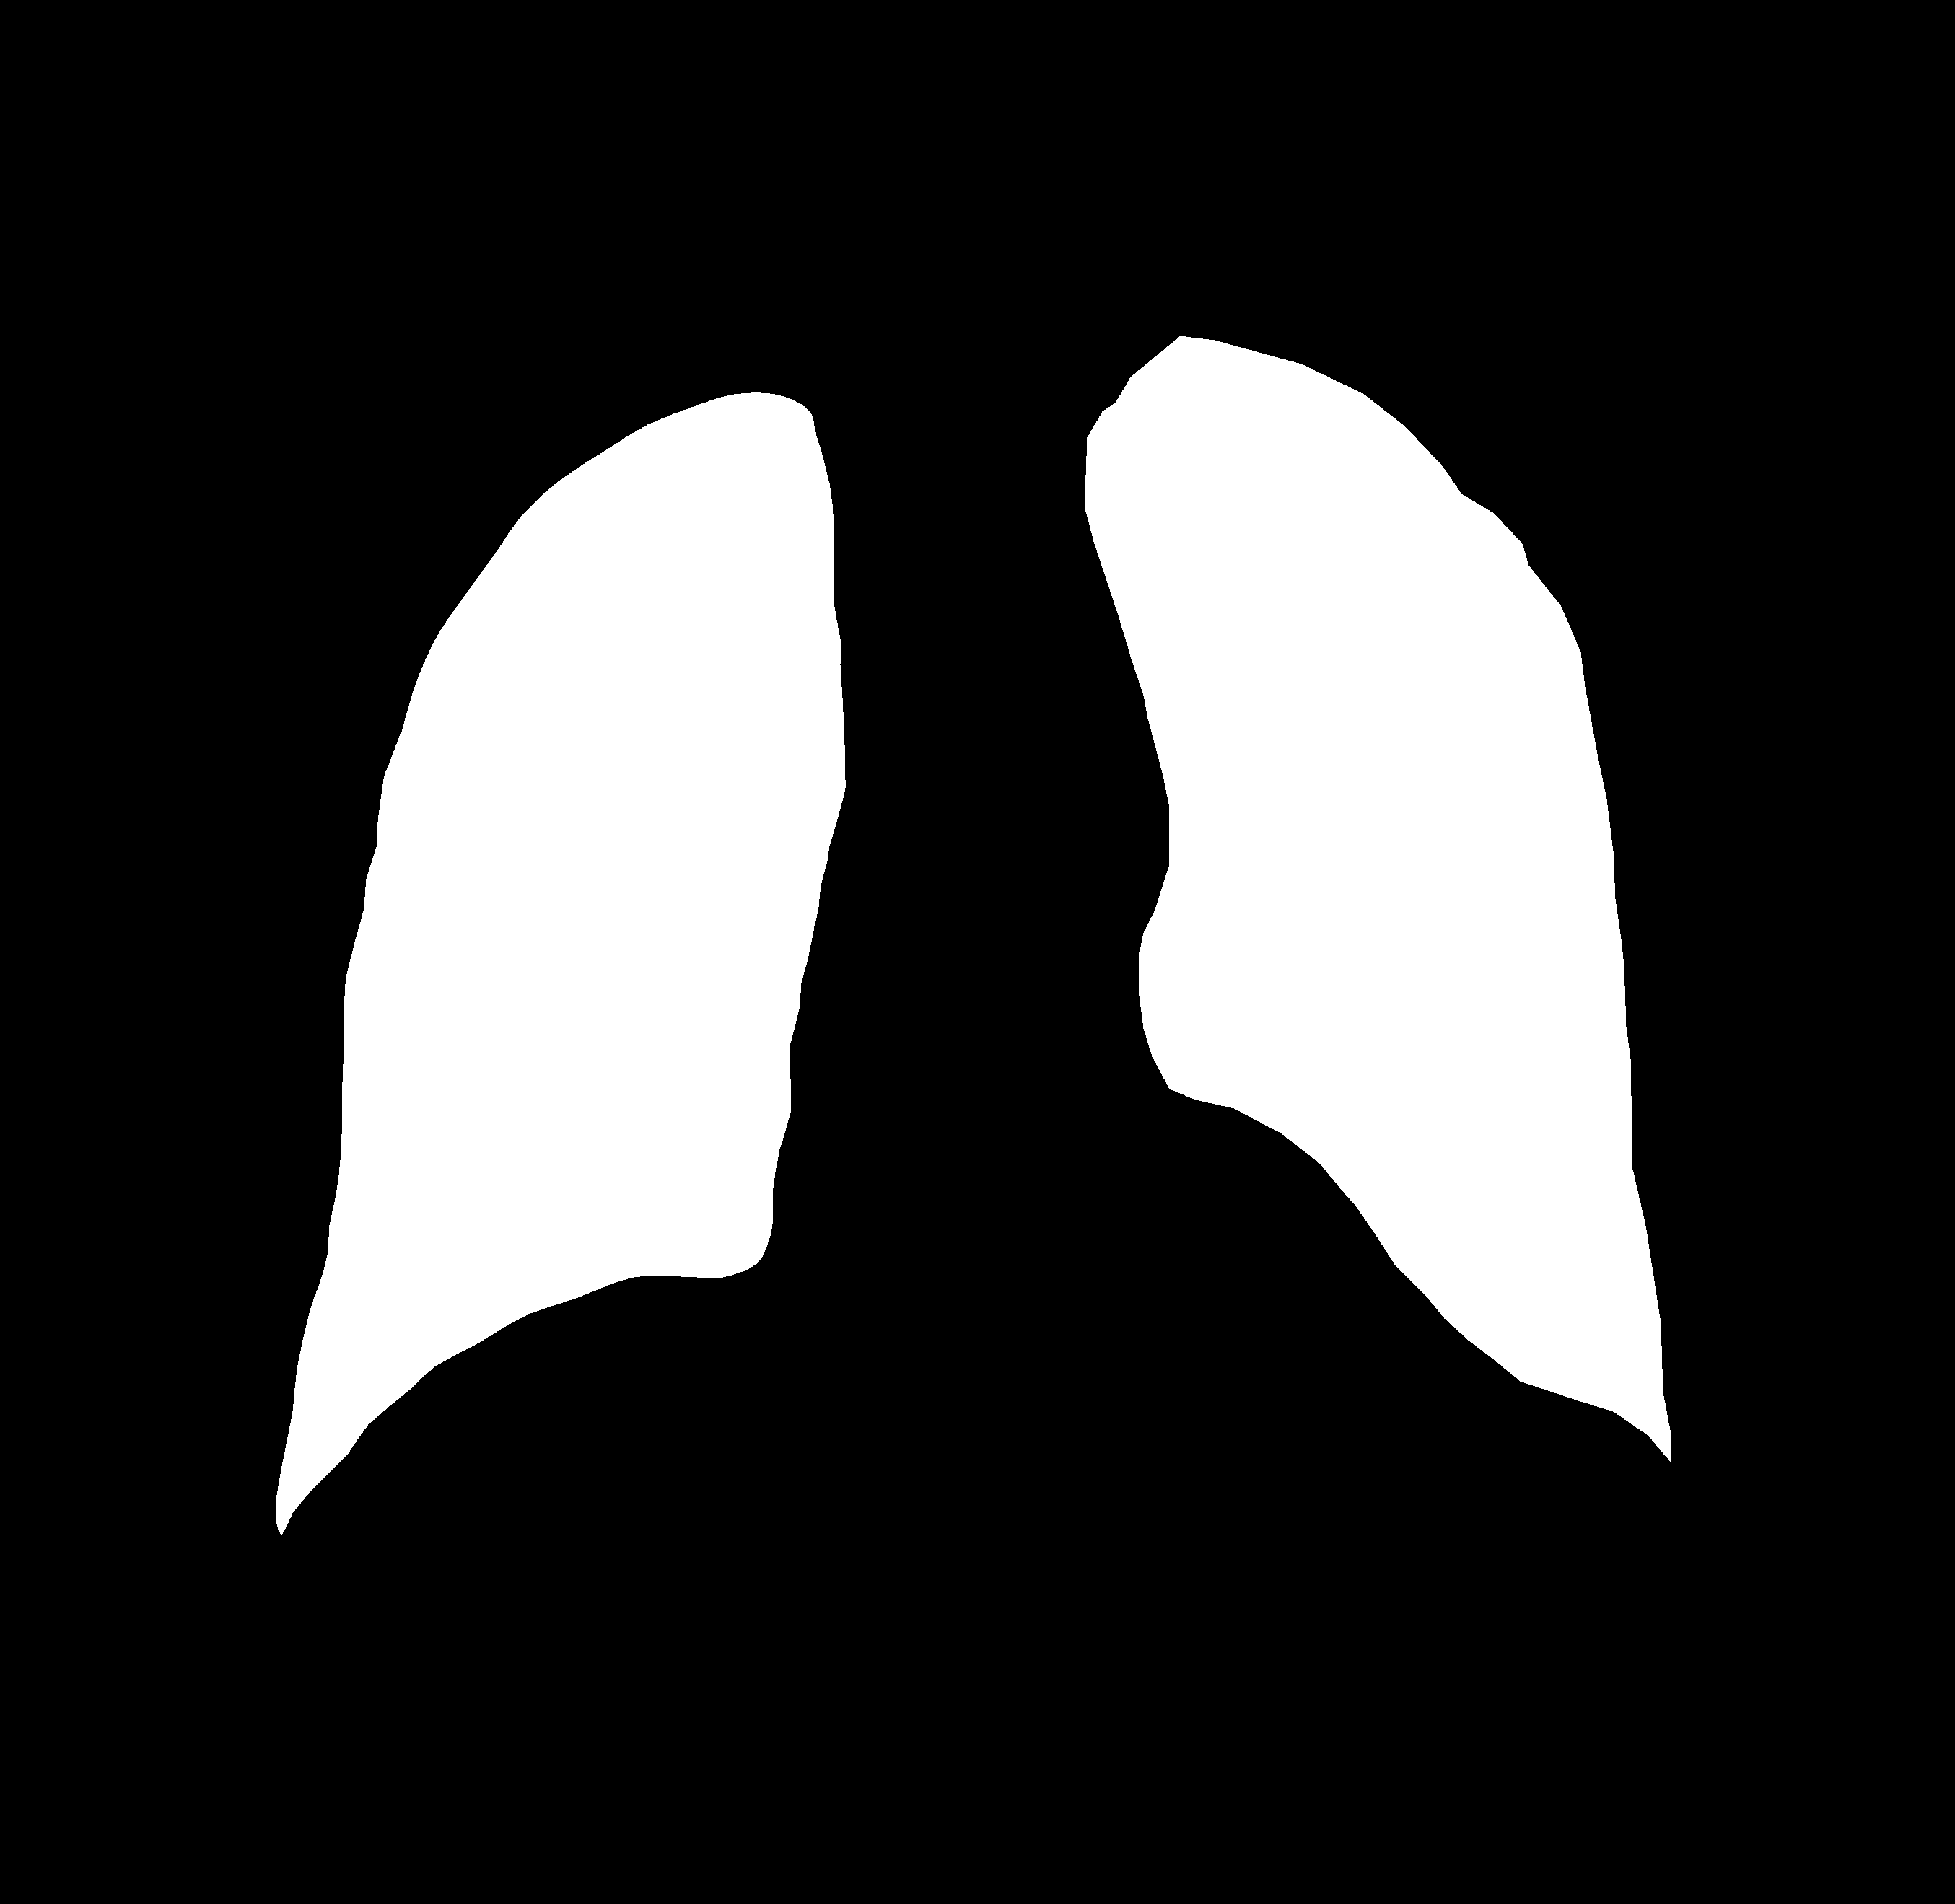heart: (812, 1024, 1430, 1422)
left_lung: (276, 393, 845, 1534)
right_lung: (1084, 337, 1681, 1462)
